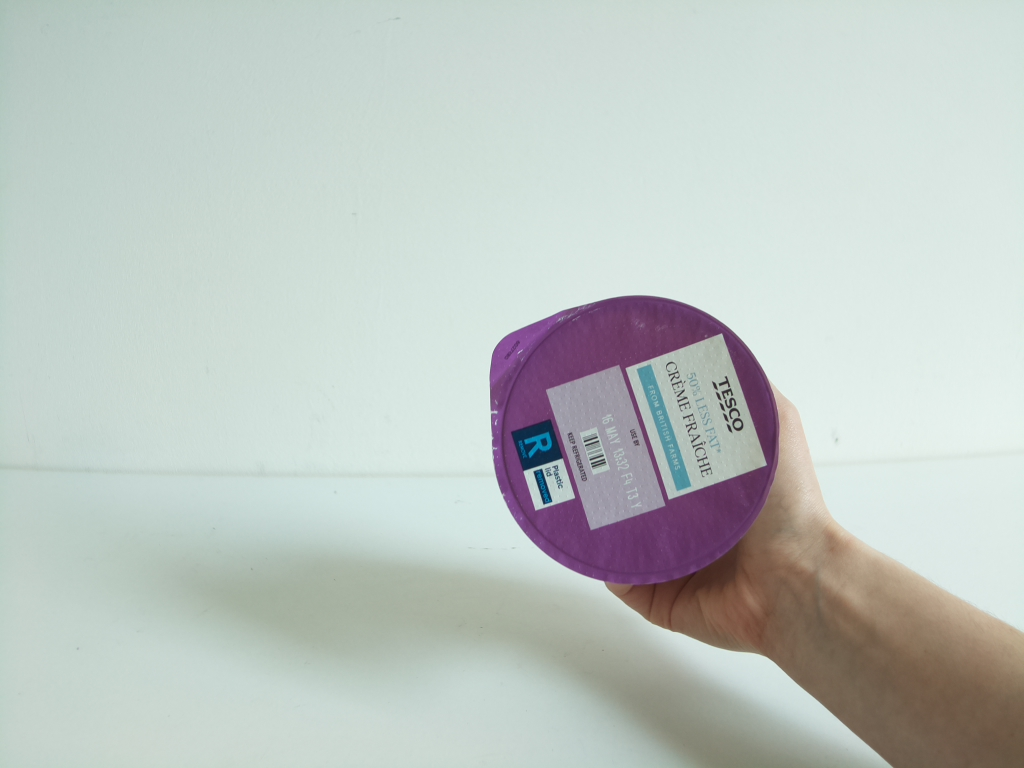cream: (489, 296, 782, 582)
